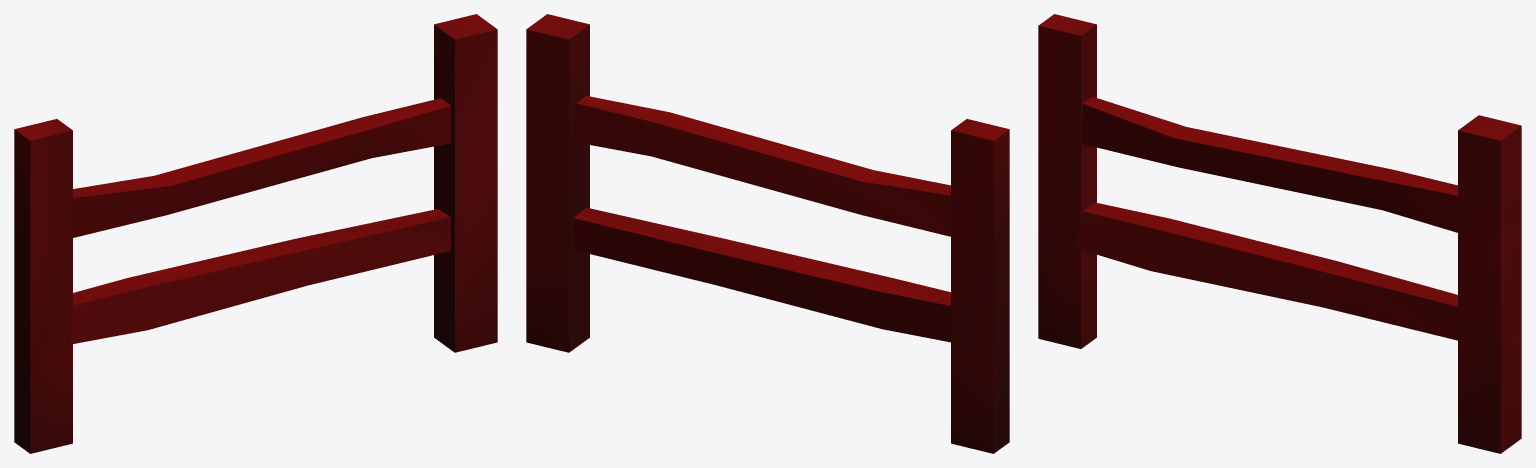
The model's file is WoodenFence002.glb.
The picture shows the model from 3 angles, left to right: view 1: azimuth 30°, elevation 25°; view 2: azimuth 150°, elevation 25°; view 3: azimuth 330°, elevation 25°; orthographic projection.
Visible parts, largest first — view 1: WoodenFence002; view 2: WoodenFence002; view 3: WoodenFence002.
Boxes of the visible parts, x1,y1,x2,y2 form: WoodenFence002: [14, 14, 497, 453]; WoodenFence002: [526, 14, 1009, 453]; WoodenFence002: [1038, 14, 1521, 453].
Size of the model in its own units: 11.03 by 7.15 by 0.8706.
